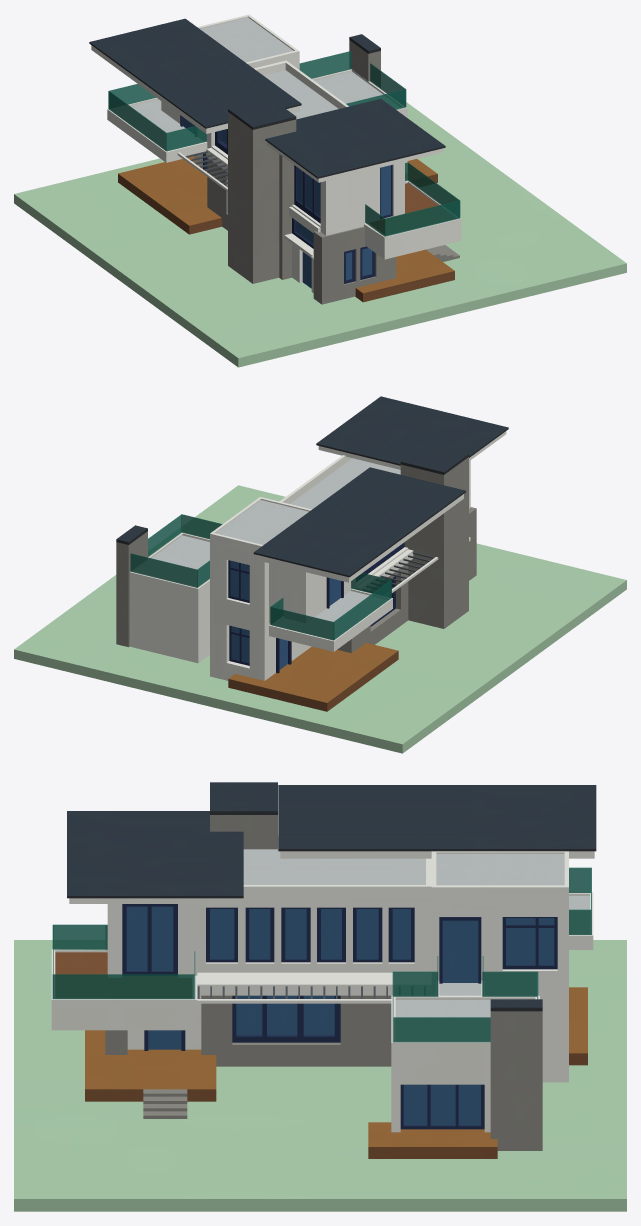
The picture shows the model from 3 angles, top to bottom: view 1: azimuth 30°, elevation 25°; view 2: azimuth 150°, elevation 25°; view 3: azimuth 270°, elevation 25°; orthographic projection. The views are drawn at different scales.
Parts seen in each view (by area): view 1: Cube, Plano, Cubo; view 2: Cube, Plano, Cubo; view 3: Cube, Plano, Cubo.
Part boxes in pixels (x1,y1,x2,y2): Cube: (89, 14, 461, 304); Plano: (14, 102, 626, 367); Cubo: (108, 51, 460, 236); Cube: (116, 396, 508, 711); Plano: (14, 485, 626, 753); Cubo: (130, 514, 391, 640); Cube: (51, 782, 596, 1158); Plano: (14, 940, 626, 1211); Cubo: (52, 867, 591, 1042).
Size of the model in its own units: 15.82 by 6.49 by 15.82.
2 materials, 1 textured.
